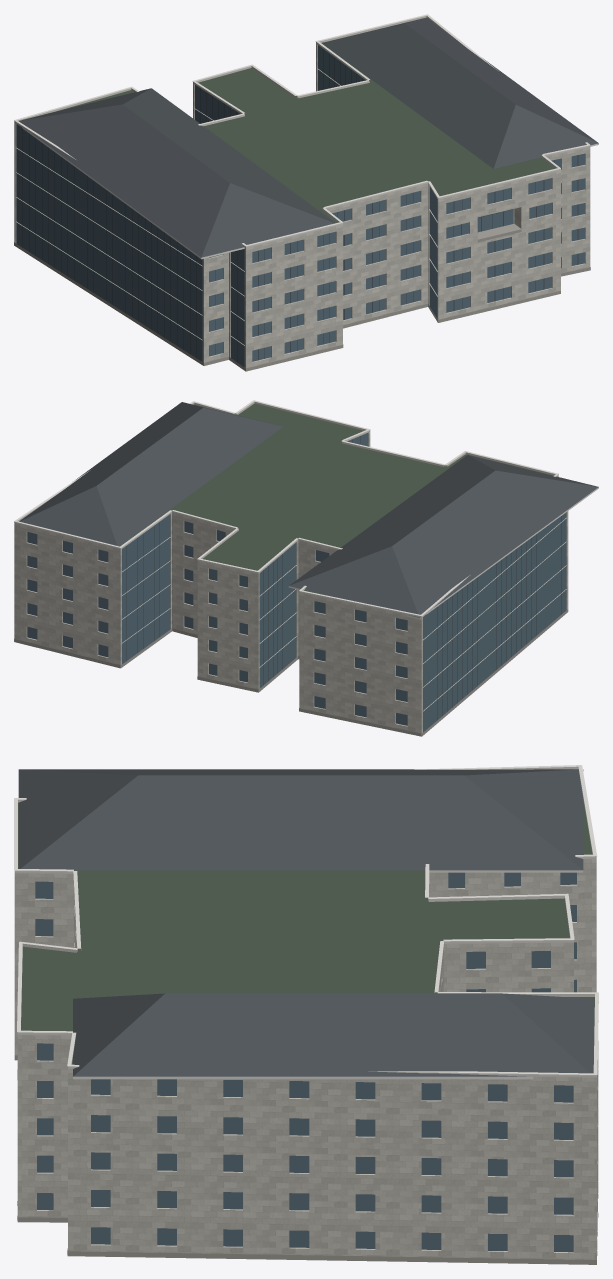
3 views of the same model, one above another, from view 1: azimuth 30°, elevation 25°; view 2: azimuth 150°, elevation 25°; view 3: azimuth 270°, elevation 25° (orthographic). The views are drawn at different scales.
Visible parts, largest first — view 1: asanEng__roofAccent, asanEng__glass, asanEng__wall, asanEng__roof, asanEng__frame, asanEng__trim, asanEng__base, asanEng__parapet; view 2: asanEng__roofAccent, asanEng__wall, asanEng__glass, asanEng__roof, asanEng__frame, asanEng__trim, asanEng__base, asanEng__parapet; view 3: asanEng__wall, asanEng__roofAccent, asanEng__roof, asanEng__glass, asanEng__trim, asanEng__base, asanEng__parapet.
Boxes of the visible parts, x1,y1,x2,y2 form: asanEng__roofAccent: [19, 17, 598, 257]; asanEng__glass: [16, 45, 584, 367]; asanEng__wall: [14, 43, 590, 370]; asanEng__roof: [59, 34, 555, 222]; asanEng__frame: [22, 49, 578, 362]; asanEng__trim: [14, 14, 598, 259]; asanEng__base: [14, 223, 590, 371]; asanEng__parapet: [14, 15, 590, 247]; asanEng__roofAccent: [19, 402, 598, 617]; asanEng__wall: [14, 431, 568, 736]; asanEng__glass: [27, 433, 566, 732]; asanEng__roof: [120, 403, 552, 595]; asanEng__frame: [126, 436, 561, 720]; asanEng__trim: [14, 400, 598, 619]; asanEng__base: [14, 609, 568, 736]; asanEng__parapet: [14, 401, 558, 617]; asanEng__wall: [14, 858, 598, 1259]; asanEng__roofAccent: [18, 769, 594, 1076]; asanEng__roof: [18, 800, 594, 1264]; asanEng__glass: [35, 872, 576, 1252]; asanEng__trim: [14, 765, 598, 1079]; asanEng__base: [14, 1055, 598, 1264]; asanEng__parapet: [14, 766, 596, 1077].
Size of the model in its own units: 67.58 by 23.52 by 53.88.
Materials: 9 (1 with a texture image).
